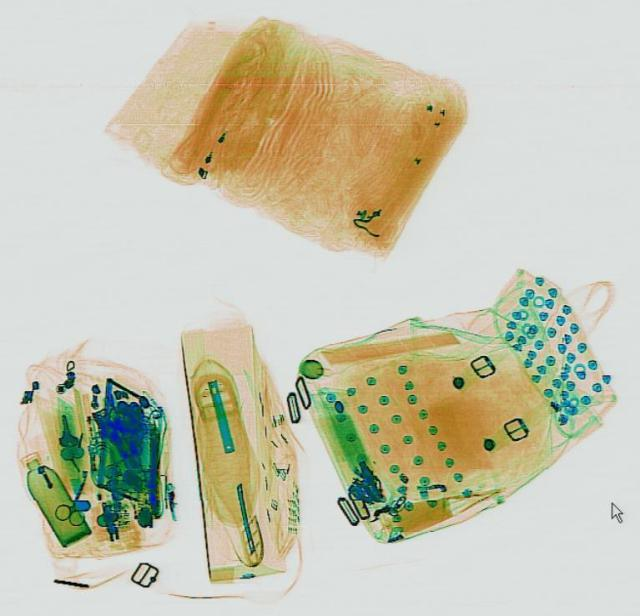Scissors: (49, 464, 102, 527)
